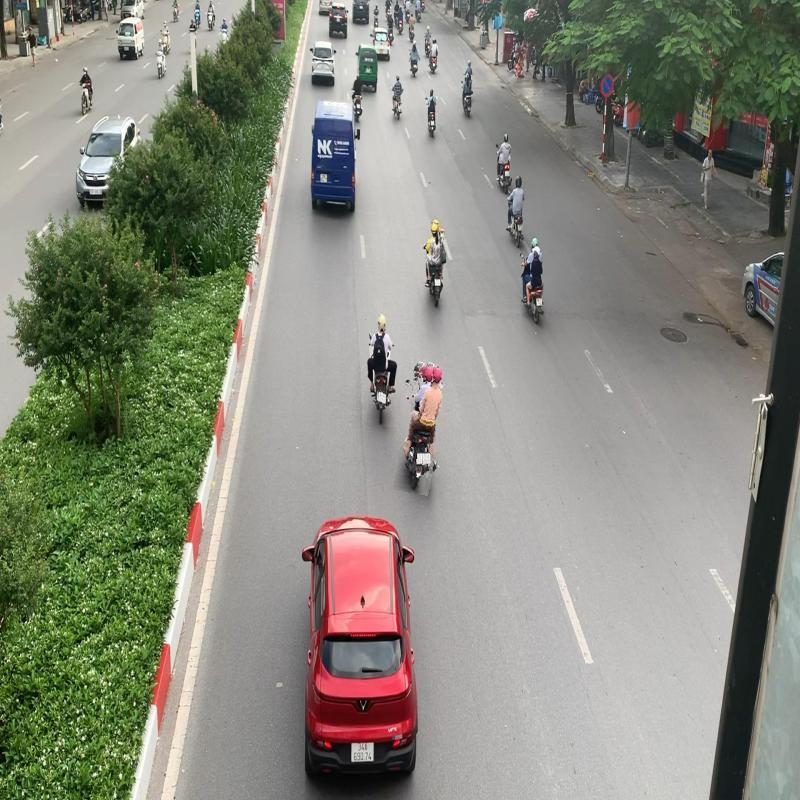helmet: (413, 362, 425, 378), (422, 365, 433, 382), (379, 315, 386, 332)
licenseplate: (378, 391, 386, 404), (422, 453, 431, 464)
motorcyclist: (398, 359, 446, 495), (368, 314, 400, 428)
